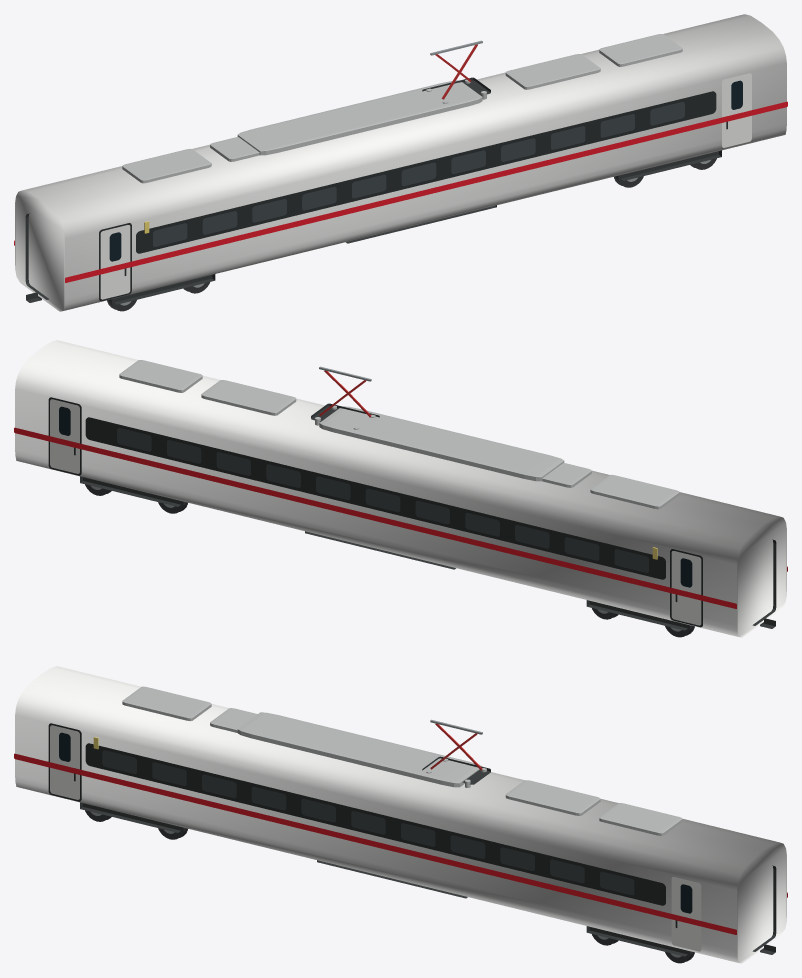
Rendered from ice3-br403-v2-unified-first-transformer-403-1.glb.
3 views of the same model, one above another, from view 1: azimuth 30°, elevation 25°; view 2: azimuth 150°, elevation 25°; view 3: azimuth 330°, elevation 25° (orthographic).
Parts seen in each view (by area): view 1: ice3_continuity_shared_transformer_shell, ice3_continuity_403_1_continuous_black_glazing_band_-1, ice3_v2_first_transformer_403_1_transformer_roof_cabinet, ice3_continuity_403_1_shared_red_body_stripe_-1, ice3_v2_first_transformer_403_1_roof_fairing_3, ice3_v2_first_transformer_403_1_roof_fairing_0, ice3_continuity_403_1_rear_door_leaf_-1, ice3_v2_first_transformer_403_1_roof_fairing_4, ice3_continuity_403_1_front_door_leaf_-1, ice3_v2_first_transformer_403_1_roof_fairing_1, ice3_v2_first_transformer_403_1_bogie_0_sideframe_-1, ice3_v2_first_transformer_403_1_bogie_1_sideframe_-1 (+11 smaller); view 2: ice3_continuity_shared_transformer_shell, ice3_continuity_403_1_continuous_black_glazing_band_1, ice3_v2_first_transformer_403_1_transformer_roof_cabinet, ice3_continuity_403_1_shared_red_body_stripe_1, ice3_v2_first_transformer_403_1_roof_fairing_3, ice3_v2_first_transformer_403_1_roof_fairing_0, ice3_continuity_403_1_rear_door_leaf_1, ice3_v2_first_transformer_403_1_roof_fairing_4, ice3_continuity_403_1_front_door_leaf_1, ice3_v2_first_transformer_403_1_bogie_0, ice3_v2_first_transformer_403_1_bogie_1, ice3_v2_first_transformer_403_1_roof_fairing_1 (+11 smaller); view 3: ice3_continuity_shared_transformer_shell, ice3_continuity_403_1_continuous_black_glazing_band_-1, ice3_v2_first_transformer_403_1_transformer_roof_cabinet, ice3_continuity_403_1_shared_red_body_stripe_-1, ice3_v2_first_transformer_403_1_roof_fairing_3, ice3_v2_first_transformer_403_1_roof_fairing_0, ice3_continuity_403_1_front_door_leaf_-1, ice3_v2_first_transformer_403_1_roof_fairing_4, ice3_continuity_403_1_rear_door_leaf_-1, ice3_v2_first_transformer_403_1_bogie_1_sideframe_-1, ice3_v2_first_transformer_403_1_bogie_0_sideframe_-1, ice3_v2_first_transformer_403_1_roof_fairing_1 (+11 smaller).
Boxes of the visible parts, bbox=[...] form: ice3_continuity_shared_transformer_shell: bbox=[15, 14, 786, 311]; ice3_continuity_403_1_continuous_black_glazing_band_-1: bbox=[136, 91, 716, 253]; ice3_v2_first_transformer_403_1_transformer_roof_cabinet: bbox=[237, 80, 482, 155]; ice3_continuity_403_1_shared_red_body_stripe_-1: bbox=[65, 101, 787, 282]; ice3_v2_first_transformer_403_1_roof_fairing_3: bbox=[505, 54, 600, 89]; ice3_v2_first_transformer_403_1_roof_fairing_0: bbox=[122, 148, 211, 183]; ice3_continuity_403_1_rear_door_leaf_-1: bbox=[100, 225, 130, 299]; ice3_v2_first_transformer_403_1_roof_fairing_4: bbox=[599, 34, 682, 66]; ice3_continuity_403_1_front_door_leaf_-1: bbox=[722, 73, 751, 147]; ice3_v2_first_transformer_403_1_roof_fairing_1: bbox=[210, 137, 259, 161]; ice3_v2_first_transformer_403_1_bogie_0_sideframe_-1: bbox=[114, 274, 215, 304]; ice3_v2_first_transformer_403_1_bogie_1_sideframe_-1: bbox=[620, 150, 721, 180]; ice3_continuity_shared_transformer_shell: bbox=[15, 340, 786, 637]; ice3_continuity_403_1_continuous_black_glazing_band_1: bbox=[85, 417, 665, 579]; ice3_v2_first_transformer_403_1_transformer_roof_cabinet: bbox=[319, 406, 564, 481]; ice3_continuity_403_1_shared_red_body_stripe_1: bbox=[14, 427, 736, 608]; ice3_v2_first_transformer_403_1_roof_fairing_3: bbox=[201, 380, 296, 415]; ice3_v2_first_transformer_403_1_roof_fairing_0: bbox=[590, 474, 679, 509]; ice3_continuity_403_1_rear_door_leaf_1: bbox=[671, 551, 701, 625]; ice3_v2_first_transformer_403_1_roof_fairing_4: bbox=[119, 360, 202, 392]; ice3_continuity_403_1_front_door_leaf_1: bbox=[50, 399, 79, 473]; ice3_v2_first_transformer_403_1_bogie_0: bbox=[586, 600, 694, 637]; ice3_v2_first_transformer_403_1_bogie_1: bbox=[80, 476, 187, 513]; ice3_v2_first_transformer_403_1_roof_fairing_1: bbox=[542, 463, 591, 487]; ice3_continuity_shared_transformer_shell: bbox=[15, 666, 786, 963]; ice3_continuity_403_1_continuous_black_glazing_band_-1: bbox=[85, 743, 665, 905]; ice3_v2_first_transformer_403_1_transformer_roof_cabinet: bbox=[237, 712, 481, 787]; ice3_continuity_403_1_shared_red_body_stripe_-1: bbox=[14, 753, 736, 934]; ice3_v2_first_transformer_403_1_roof_fairing_3: bbox=[505, 780, 600, 815]; ice3_v2_first_transformer_403_1_roof_fairing_0: bbox=[122, 686, 211, 721]; ice3_continuity_403_1_front_door_leaf_-1: bbox=[671, 877, 701, 951]; ice3_v2_first_transformer_403_1_roof_fairing_4: bbox=[599, 803, 682, 835]; ice3_continuity_403_1_rear_door_leaf_-1: bbox=[50, 725, 79, 799]; ice3_v2_first_transformer_403_1_bogie_1_sideframe_-1: bbox=[586, 926, 687, 956]; ice3_v2_first_transformer_403_1_bogie_0_sideframe_-1: bbox=[80, 802, 181, 832]; ice3_v2_first_transformer_403_1_roof_fairing_1: bbox=[210, 708, 257, 732].
Bounding box in the file's own units: 25.5 × 5.56 × 3.05.
